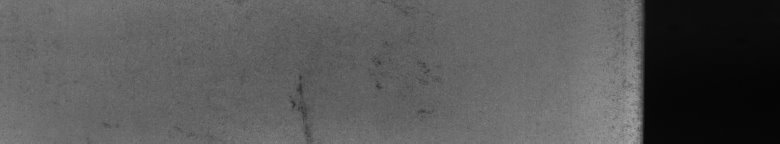ib: (288, 4, 445, 136)
